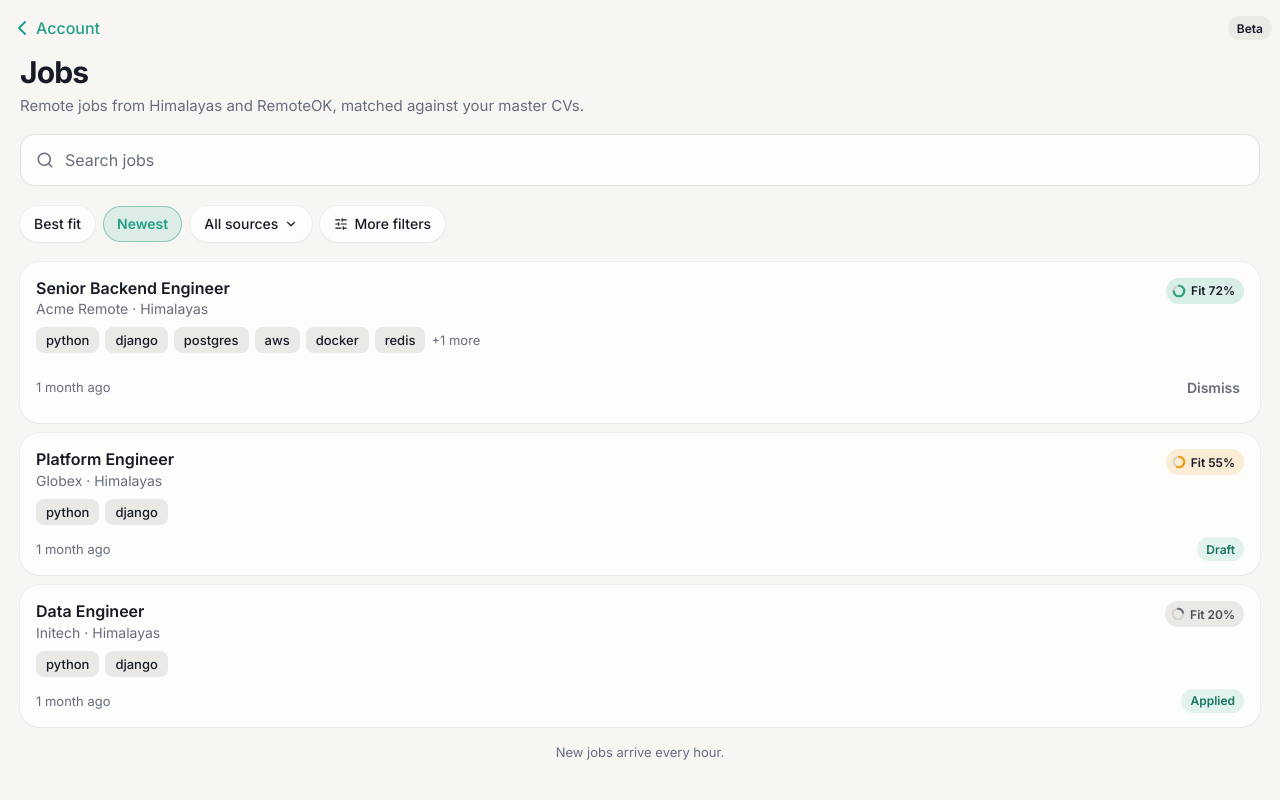
Scenario: Jobs below md › dismisses optimistically, counts it in the board's note and puts focus on the h1
Click the button "Dismiss".
click(1213, 387)  # box [1183, 365, 1244, 409]
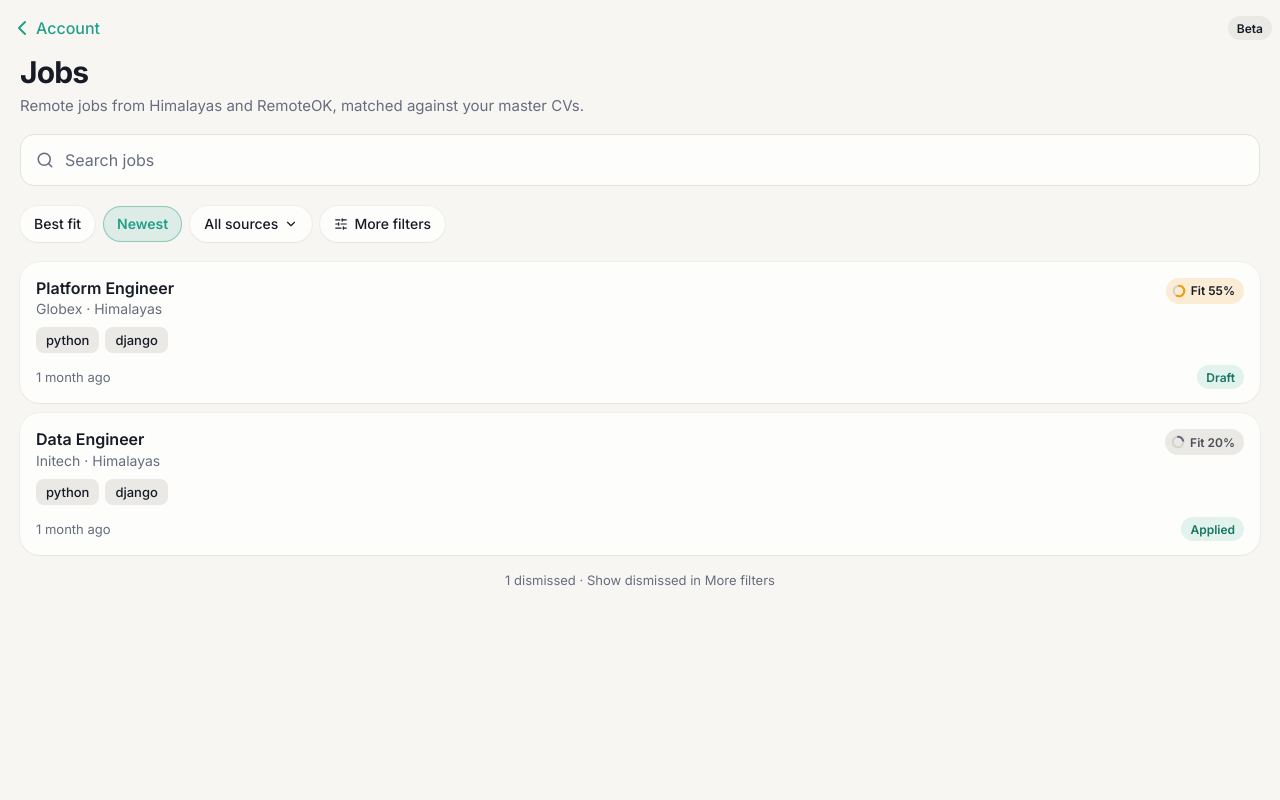
Expected: the link "Senior Backend Engineer" is gone
Expected: the text "1 dismissed · Show dismissed in More filters" is shown, [505, 572, 775, 588]
